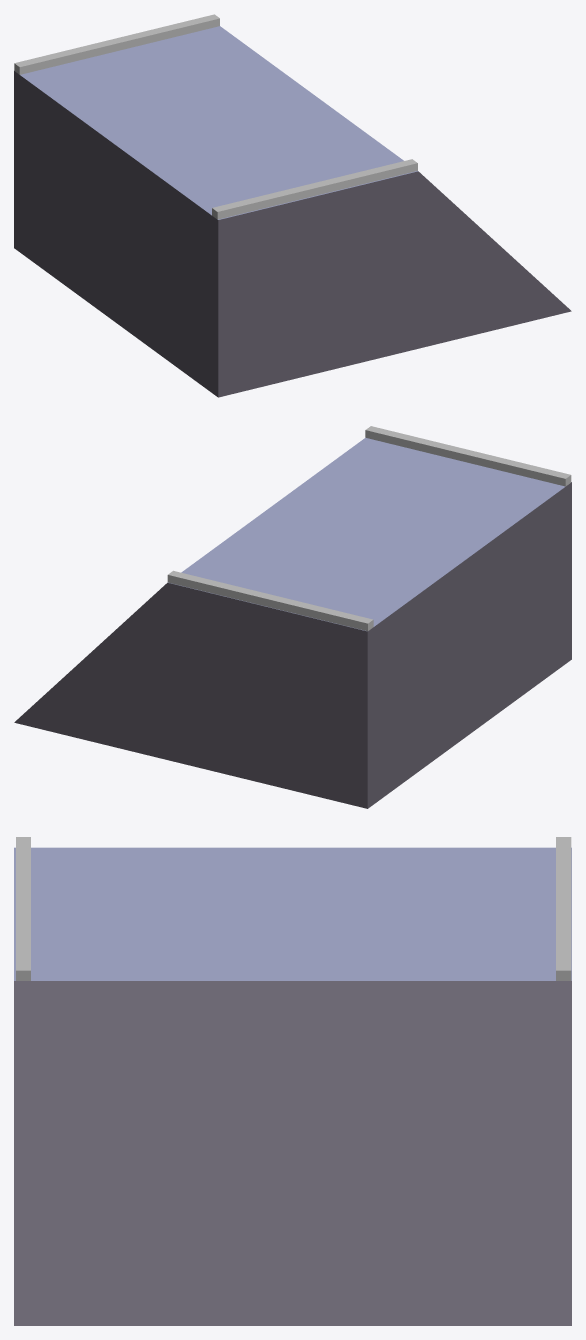
File: Res01_ChefTable_ADMIX.fbx
The picture shows the model from 3 angles, top to bottom: view 1: azimuth 30°, elevation 25°; view 2: azimuth 150°, elevation 25°; view 3: azimuth 270°, elevation 25°; orthographic projection. The views are drawn at different scales.
Visible parts, largest first — view 1: Res01_ChefTable_ADMIX; view 2: Res01_ChefTable_ADMIX; view 3: Res01_ChefTable_ADMIX.
Boxes of the visible parts, bbox=[...] form: Res01_ChefTable_ADMIX: bbox=[14, 14, 571, 397]; Res01_ChefTable_ADMIX: bbox=[14, 426, 571, 808]; Res01_ChefTable_ADMIX: bbox=[14, 837, 571, 1325].
Size of the model in its own units: 268 by 134 by 268.
